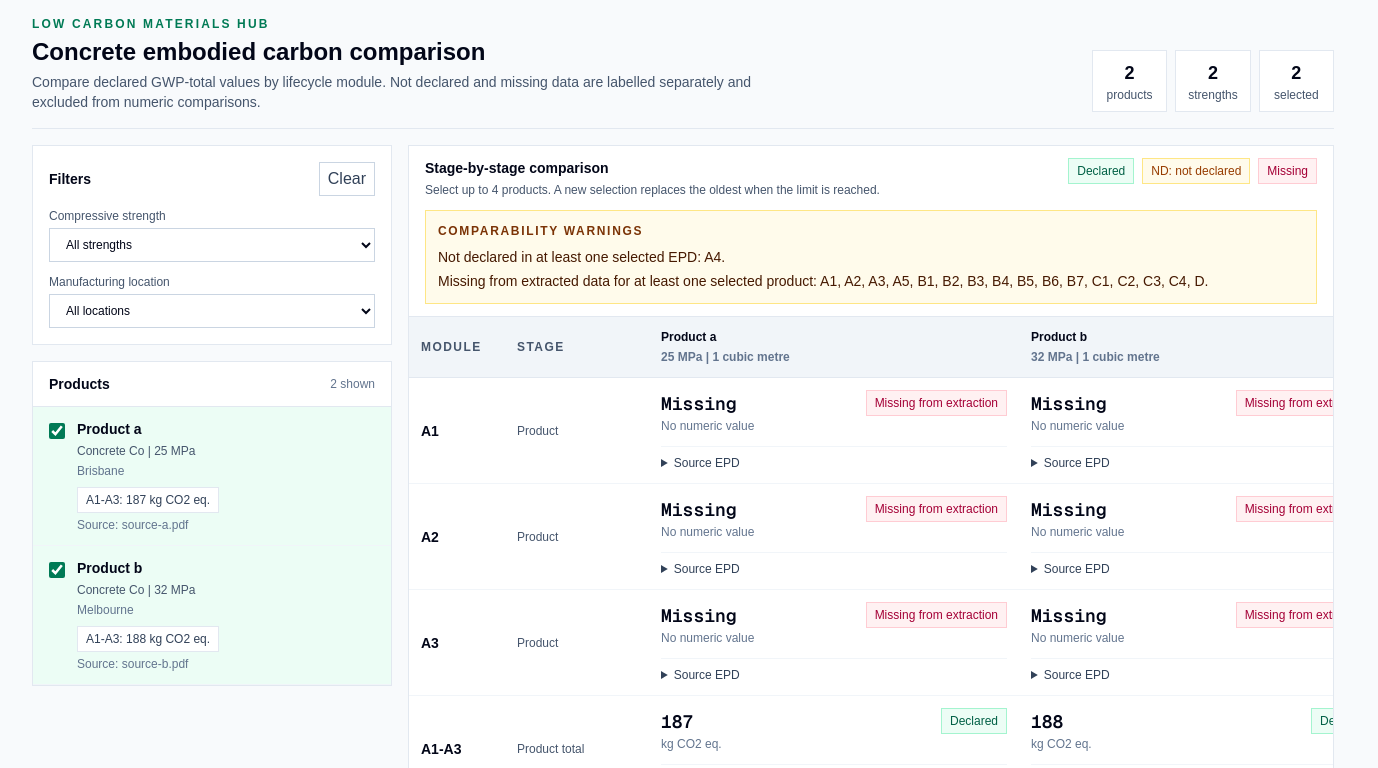
Scenario: CarbonComparisonApp › renders filters, missing data labels, warnings, and provenance
Expected: the heading "Concrete embodied carbon comparison" is shown, [32, 38, 485, 65]
Expected: the text "2 shown" is shown, [330, 376, 375, 392]
Select "25 MPa" in the dropdown labelled "Compressive strength" at (212,245), box [49, 228, 375, 262]
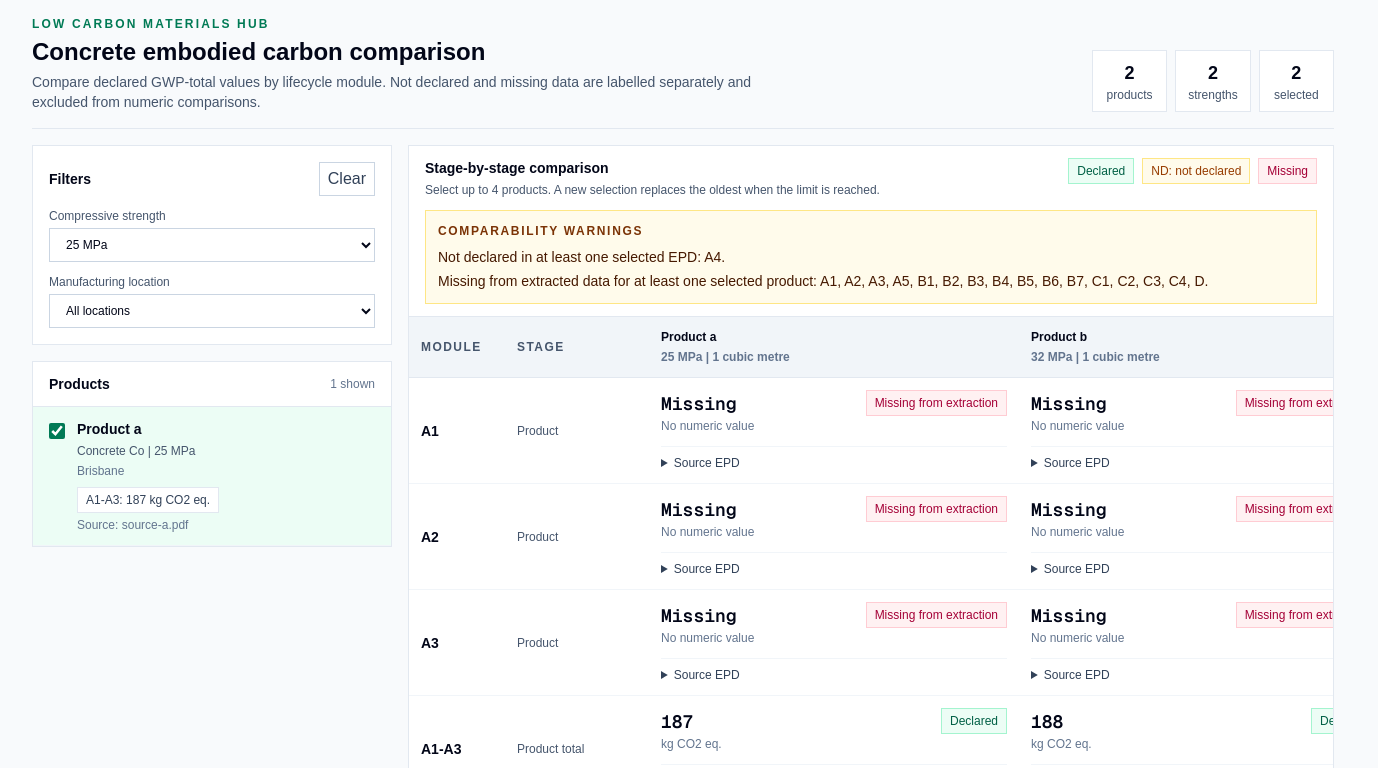
Expected: the element "Products" is shown, [32, 361, 392, 547]
Expected: the text "1 shown" is shown, [330, 376, 375, 392]
